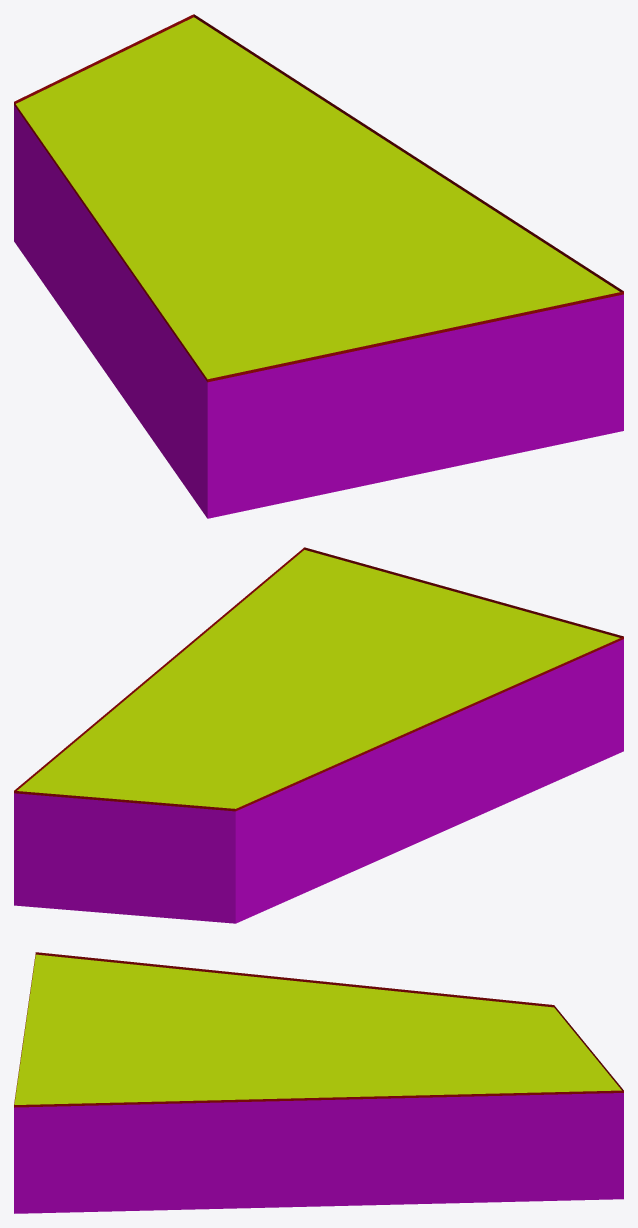
Rendered from bgj_245.glb.
3 renders of one model, top to bottom at view 1: azimuth 30°, elevation 25°; view 2: azimuth 150°, elevation 25°; view 3: azimuth 270°, elevation 25°, orthographic. The views are drawn at different scales.
Visible parts, largest first — view 1: bgj_245; view 2: bgj_245; view 3: bgj_245.
Part boxes in pixels (x1,y1,x2,y2): bgj_245: (14,14,623,518); bgj_245: (14,547,623,923); bgj_245: (14,952,623,1213).
Size of the model in its own units: 47.9 by 15.87 by 80.72.
